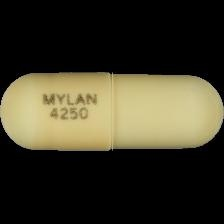16590-081: (0, 0, 224, 224)
